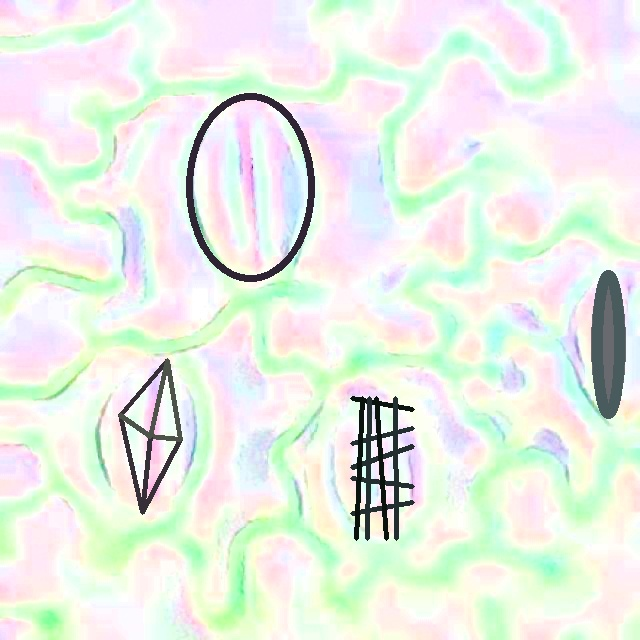close: (351, 396, 413, 539), (591, 271, 625, 418)
open: (186, 93, 315, 282), (118, 358, 181, 514)
